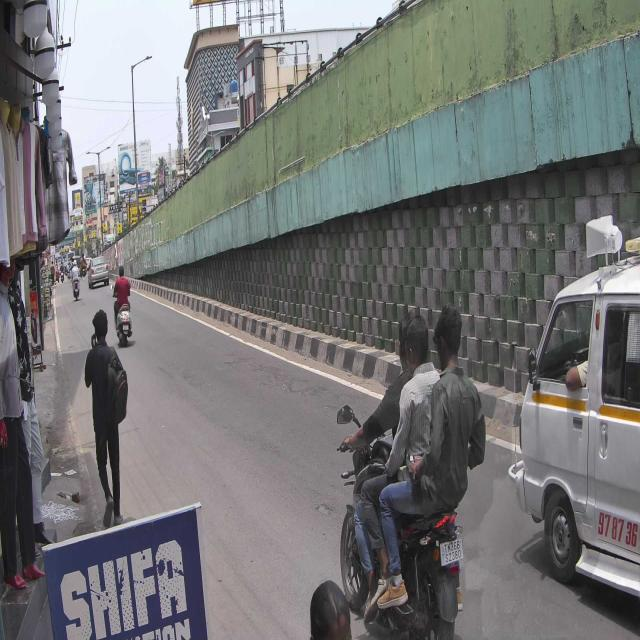triple_rider: (336, 301, 488, 640)
